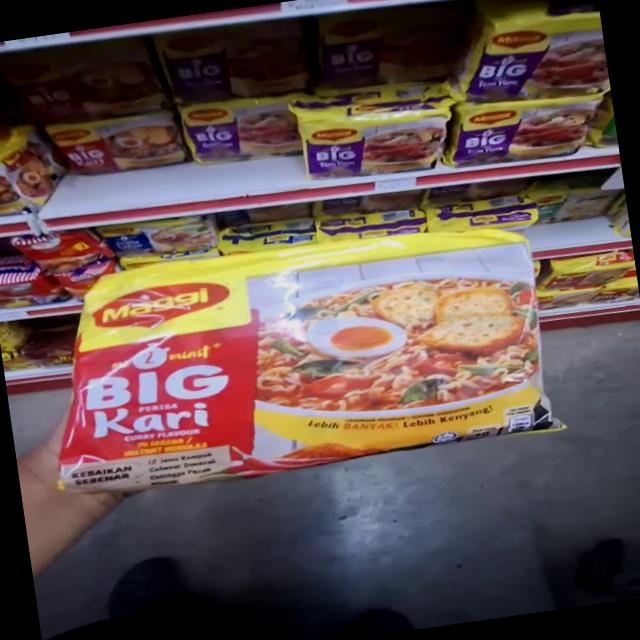Maggi: (70, 210, 571, 500)
